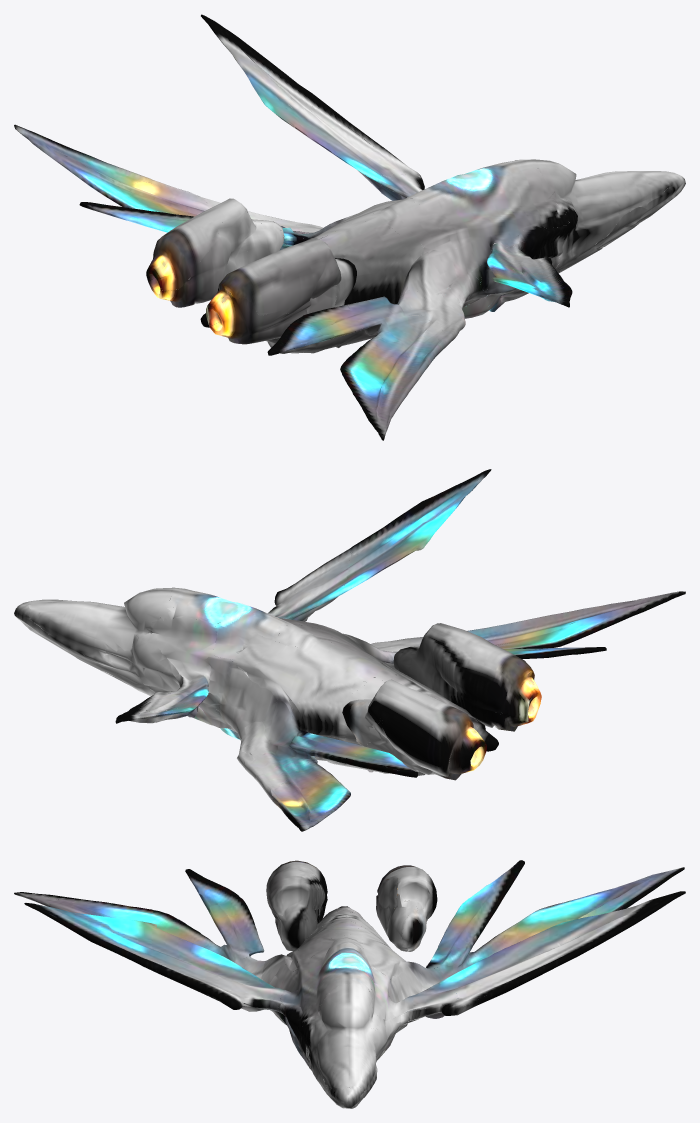
The model's file is seraph_prime.glb.
3 renders of one model, top to bottom at view 1: azimuth 30°, elevation 25°; view 2: azimuth 150°, elevation 25°; view 3: azimuth 270°, elevation 25°, orthographic. The views are drawn at different scales.
Parts seen in each view (by area): view 1: tripo_node_881ab30c-c931-4d9f-85cf-71ac19455813; view 2: tripo_node_881ab30c-c931-4d9f-85cf-71ac19455813; view 3: tripo_node_881ab30c-c931-4d9f-85cf-71ac19455813.
Boxes of the visible parts, x1=… form: tripo_node_881ab30c-c931-4d9f-85cf-71ac19455813: x1=14, y1=14, x2=685, y2=440; tripo_node_881ab30c-c931-4d9f-85cf-71ac19455813: x1=14, y1=469, x2=685, y2=831; tripo_node_881ab30c-c931-4d9f-85cf-71ac19455813: x1=14, y1=860, x2=685, y2=1108.
Size of the model in its own units: 1.54 by 0.5084 by 2.
1 material, 1 textured.
